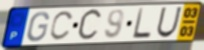9: (104, 9, 126, 41)
C: (76, 7, 104, 44), (48, 10, 76, 42)
G: (25, 11, 51, 43)
L: (131, 7, 152, 40)
U: (155, 6, 183, 39)
